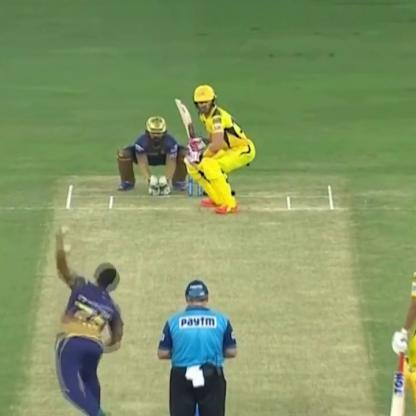ball: (19, 180, 387, 414), (60, 240, 72, 261), (58, 223, 70, 234)
bat: (165, 94, 205, 160)
